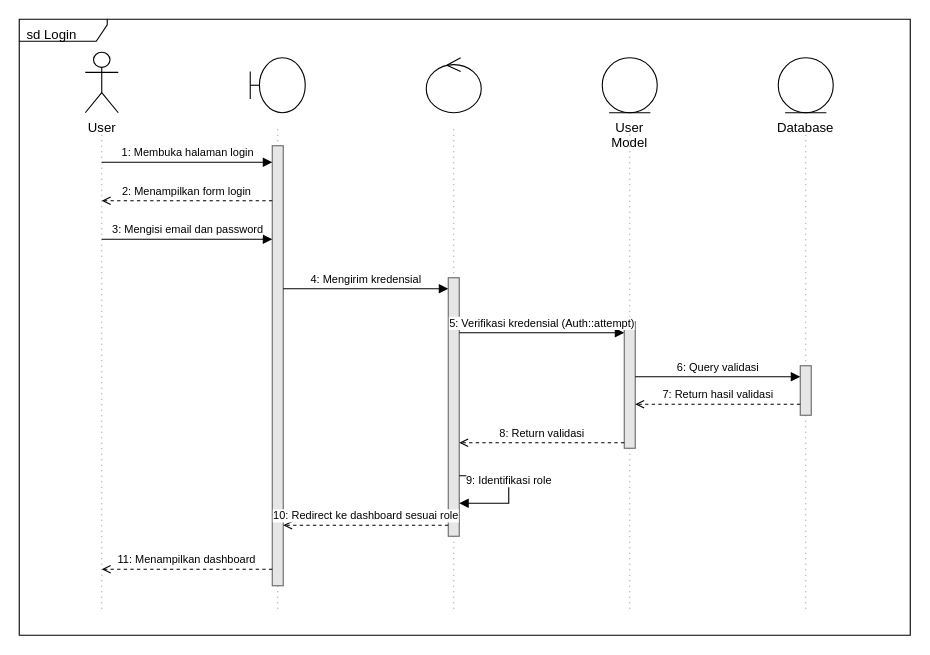
Some shapes in this 930 by 655 pixel diagram are drawn without their labels. Each missing label, with the centre of its shape:
AuthController: the point at 453,85
Halaman Login: the point at 277,85
